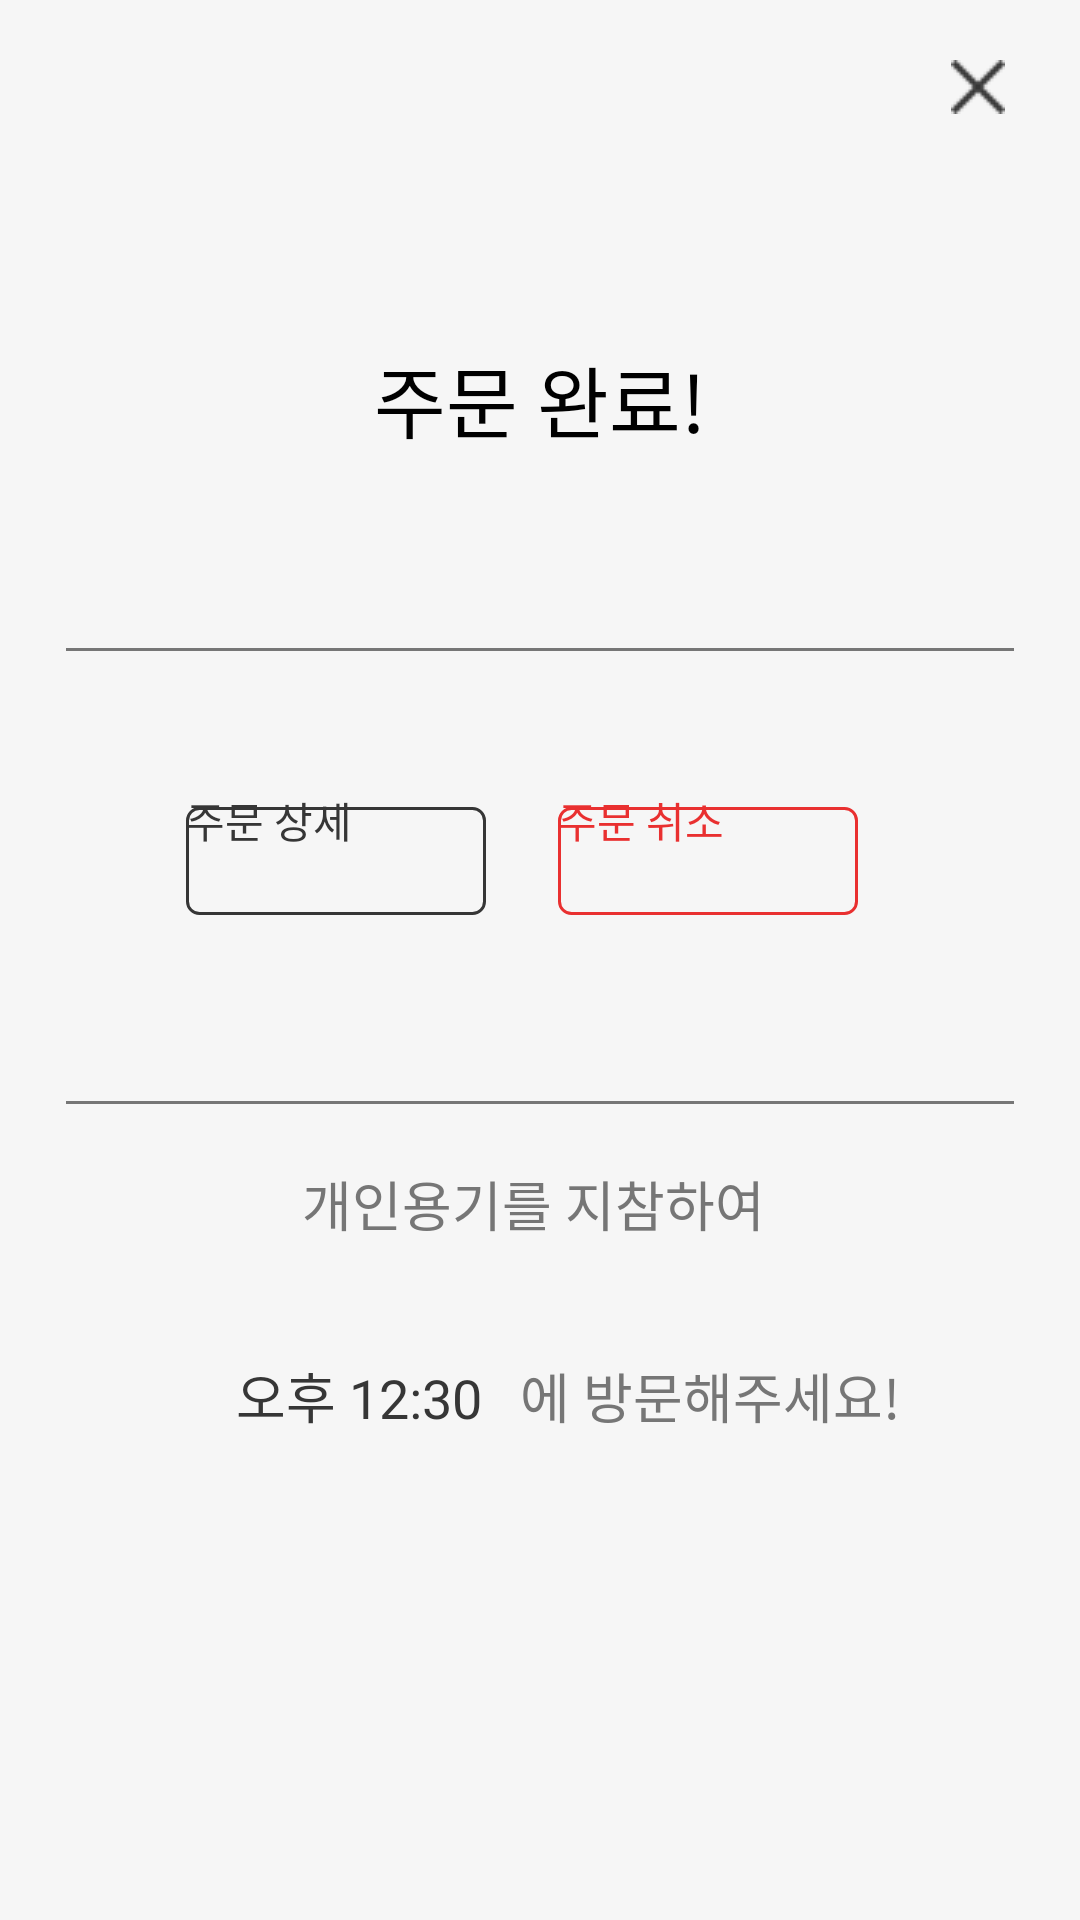

Screen size 1080×1920. Icon name, then its box in pixels as bbox=[x1, y1, x2, y2]:
closed: bbox=[951, 60, 1005, 114]
